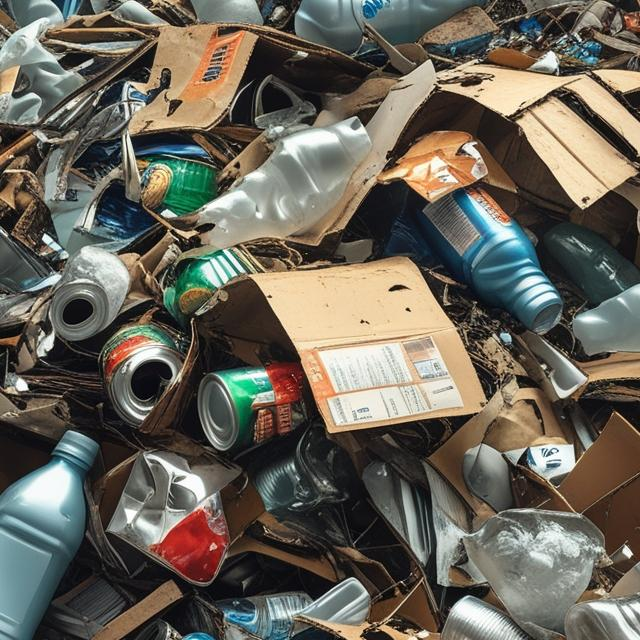metal: (78, 318, 195, 416)
plastic: (298, 0, 495, 42)
